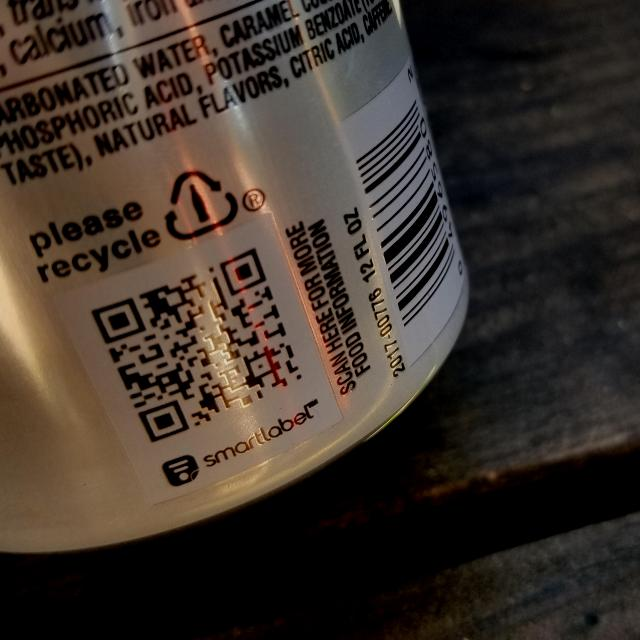QRCode: (82, 233, 318, 451)
